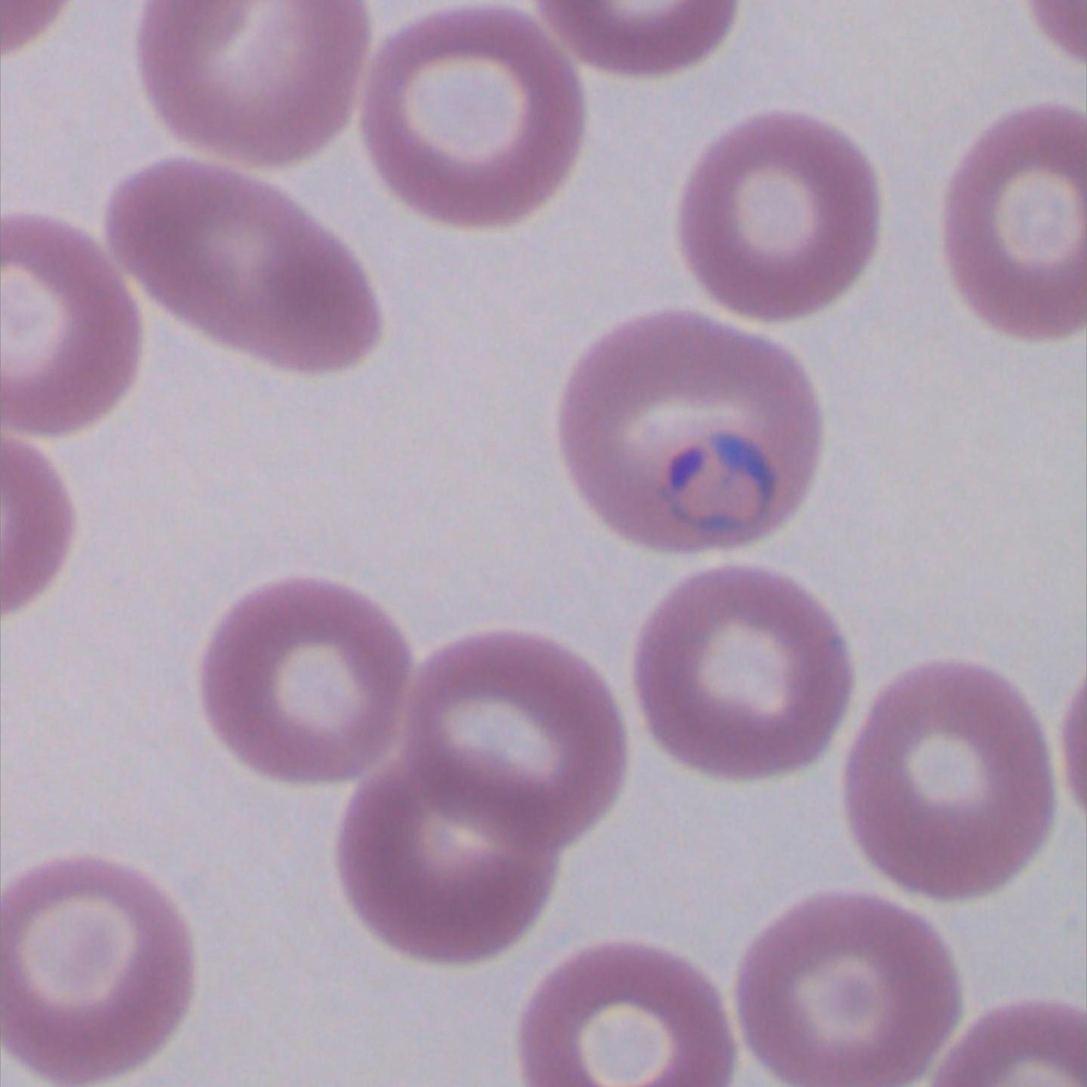Infected: (558, 310, 823, 557)
Uninfected: (101, 159, 384, 371), (850, 657, 1058, 897), (402, 632, 629, 851), (357, 8, 580, 228), (339, 750, 553, 968), (636, 567, 847, 783), (0, 853, 189, 1087), (742, 888, 964, 1087), (199, 574, 416, 777), (681, 109, 883, 320), (136, 0, 360, 168), (945, 99, 1087, 336), (518, 939, 741, 1087), (0, 205, 132, 433)
